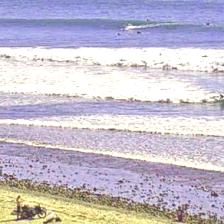surfer: (219, 94, 223, 99), (206, 22, 210, 25), (201, 55, 207, 57), (137, 31, 141, 34), (117, 33, 121, 36), (146, 19, 150, 22), (121, 27, 125, 30), (159, 53, 161, 56)
